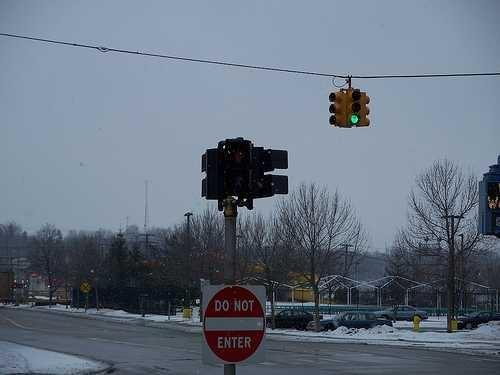2: (347, 88, 362, 128)
red traffic light: (349, 113, 361, 127)
